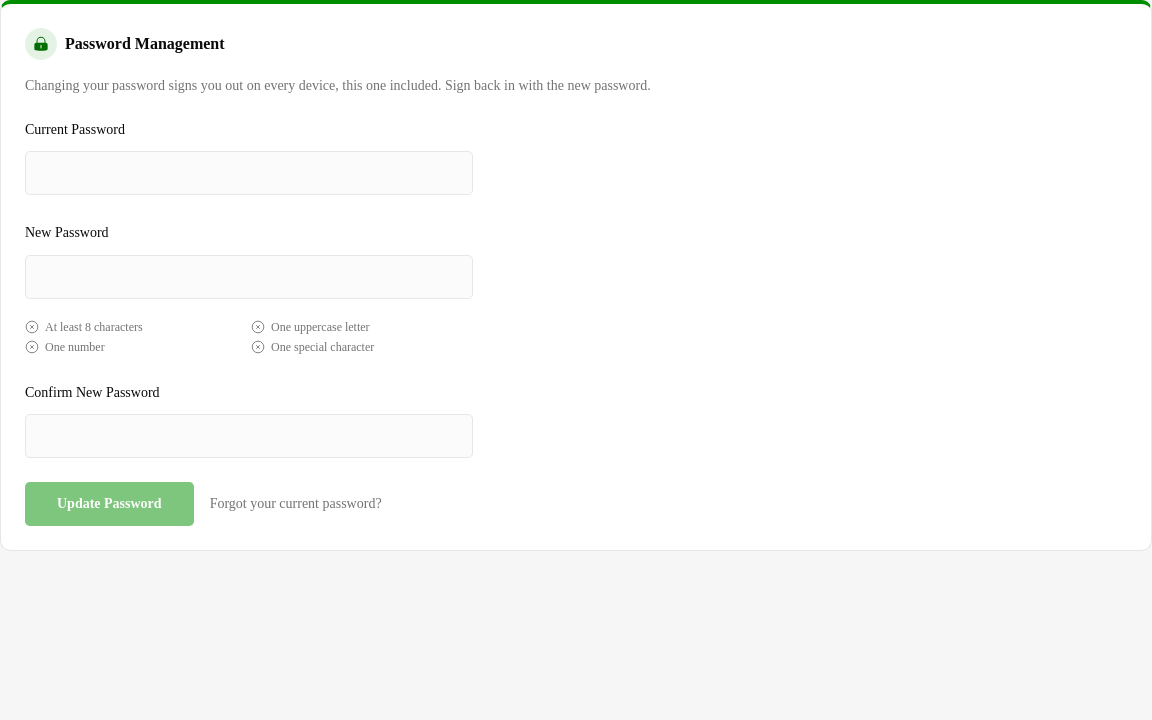
changing the password › shows the error and stays put when the current password is wrong
Type "Wrong#123" into the password field labelled "Current Password" at (249, 173), box [25,151,473,195]
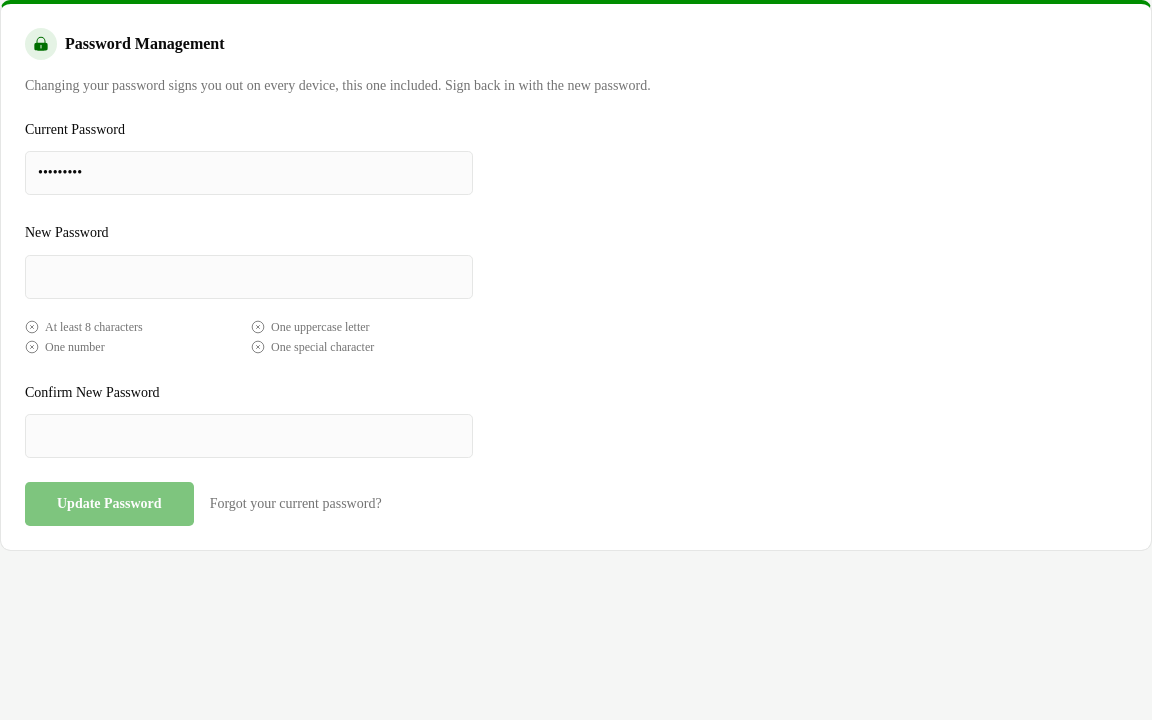
Type "Blessing#2026" into the password field labelled "New Password" at (249, 276), box [25,254,473,298]
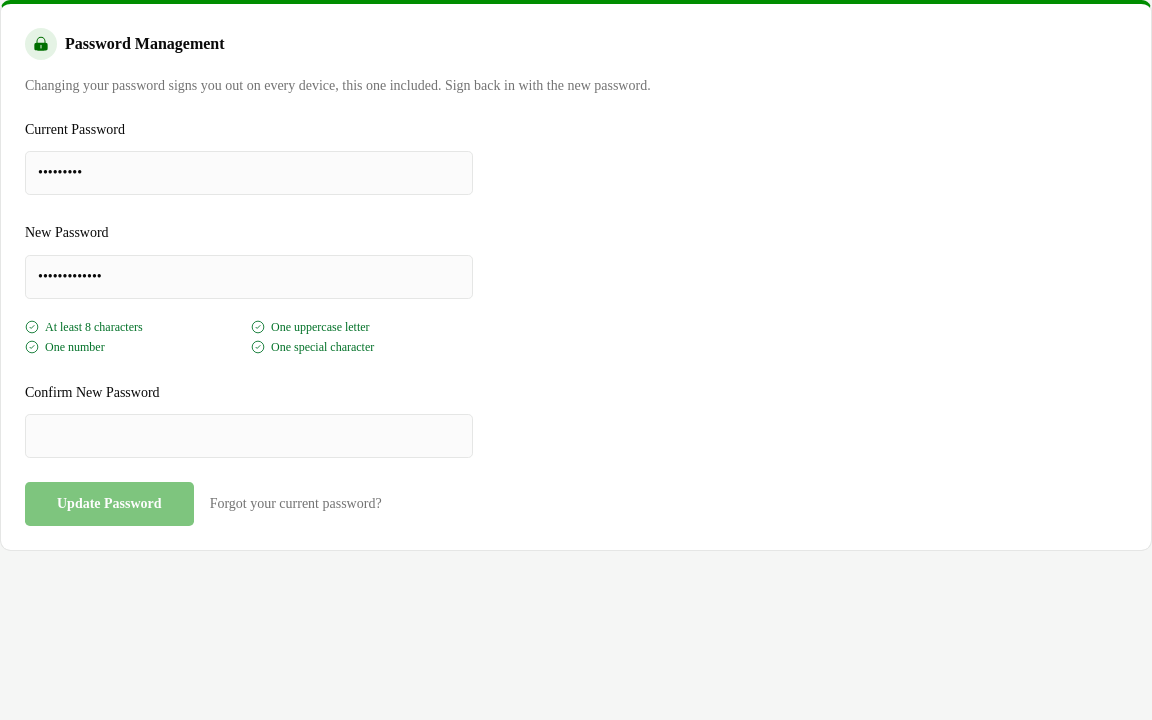
Type "Blessing#2026" into the password field labelled "Confirm New Password" at (249, 436), box [25,414,473,458]
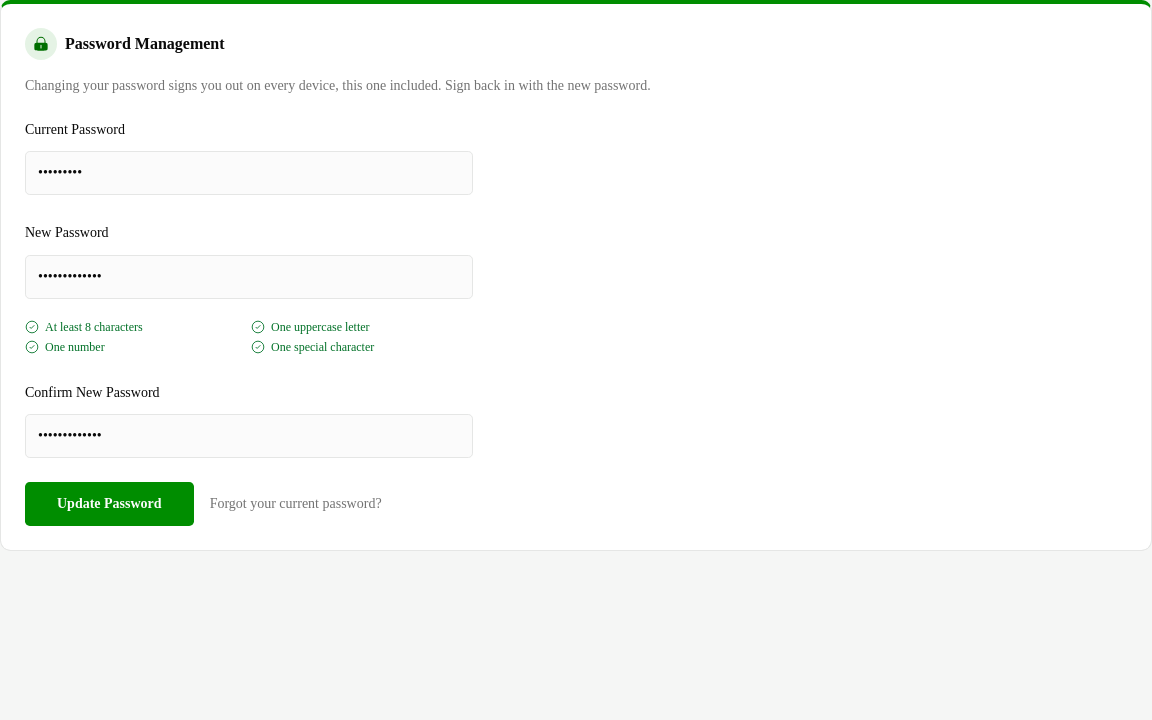
Click the button "Update Password" at (109, 504), box [25,482,194,526]
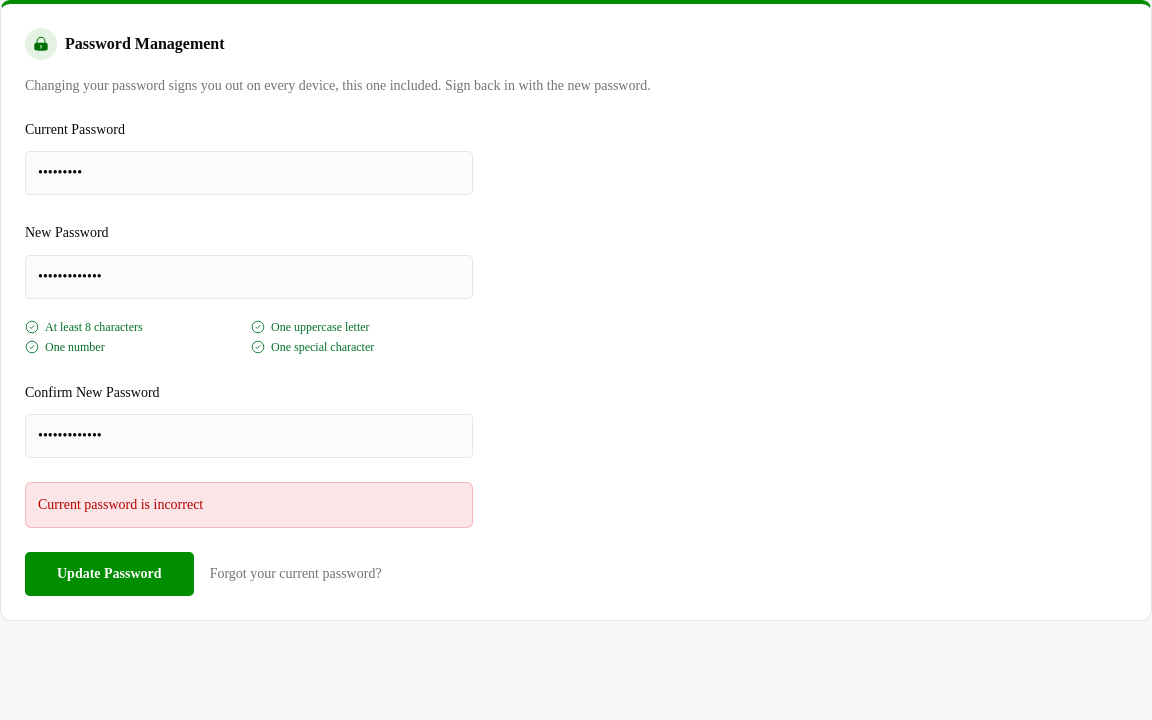
Result: the message reads "Current password is incorrect" at [38,497,203,512]
